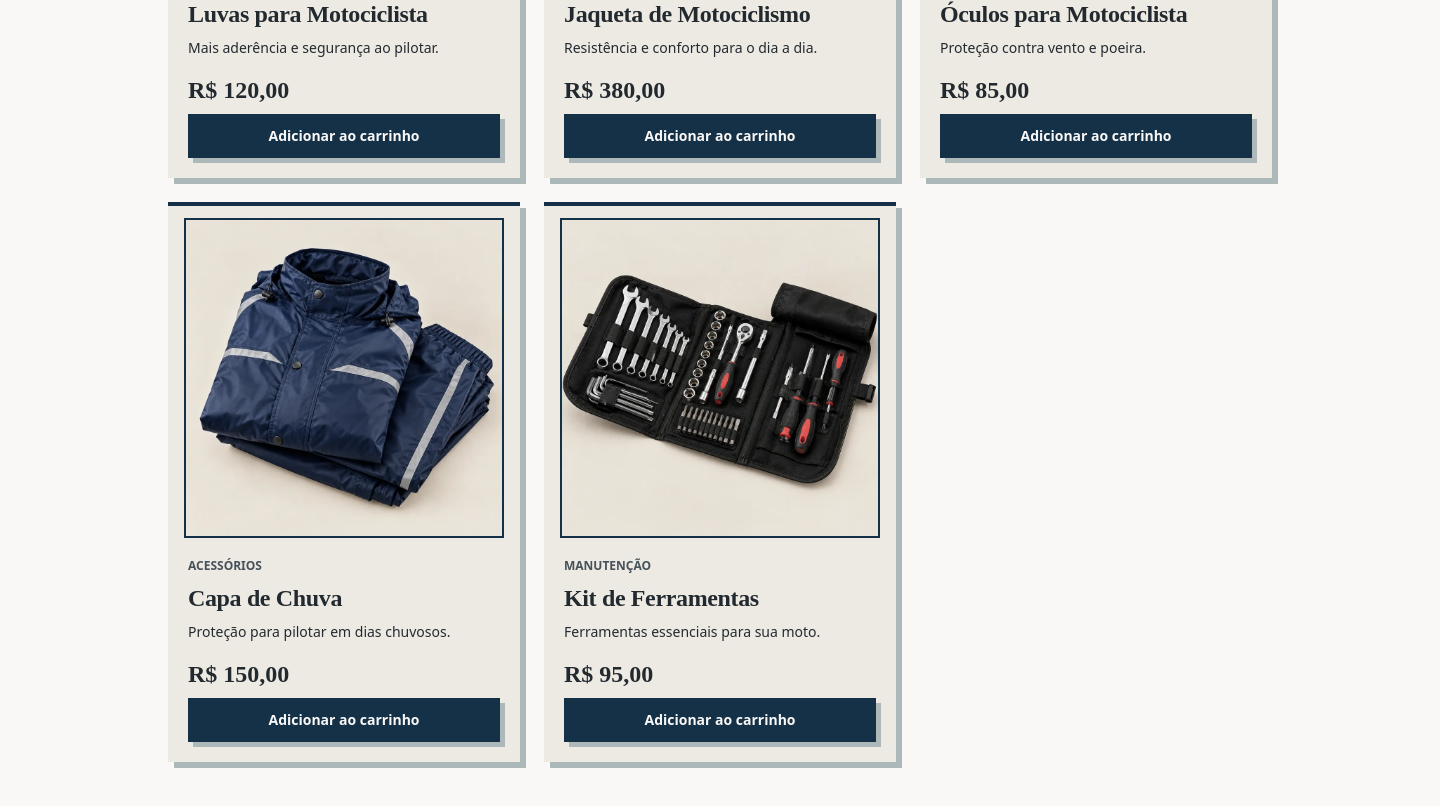
Test: Armazenamento · pedido da boutique › guarda os itens, o total e a forma de pagamento
(page scrolled)
Click the button with aria-label "Adicionar Capa de Chuva ao carrinho" at (344, 720), box x1=188 y1=698 x2=500 y2=742
(page scrolled)
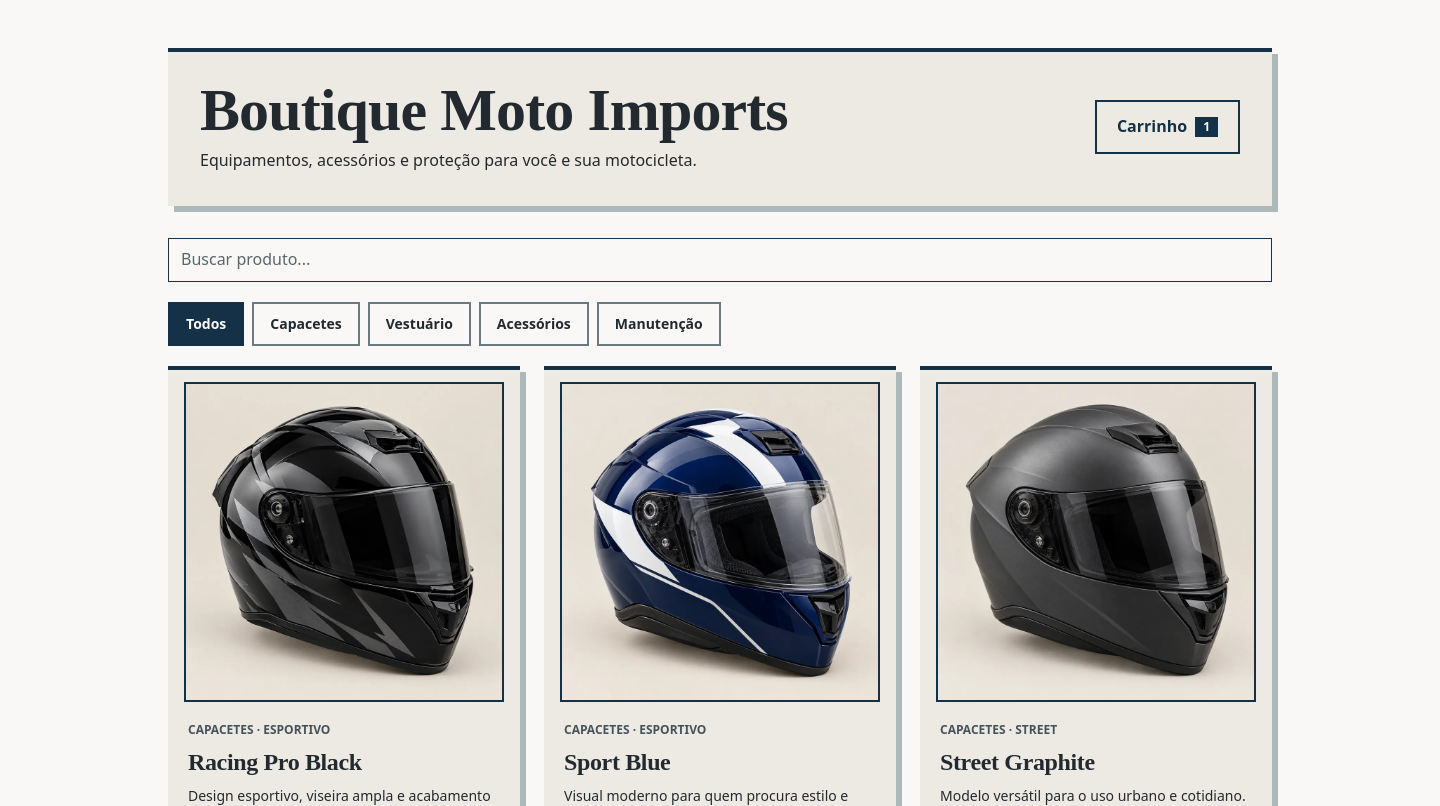
Click the button "Carrinho 1" at (1167, 127), box x1=1095 y1=100 x2=1240 y2=154
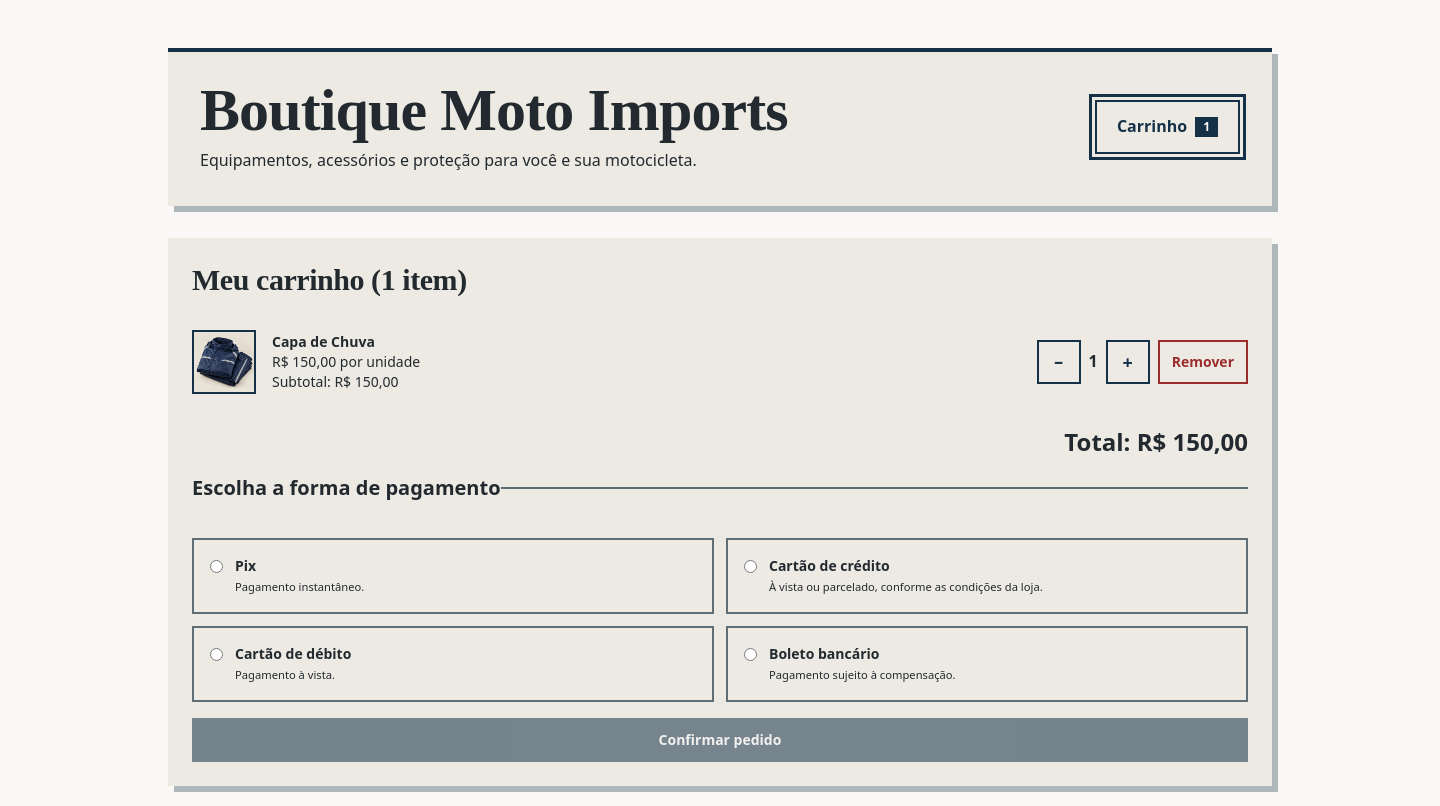
Click the radio button labelled "Pix Pagamento instantâneo." at (216, 566), box x1=210 y1=560 x2=223 y2=573
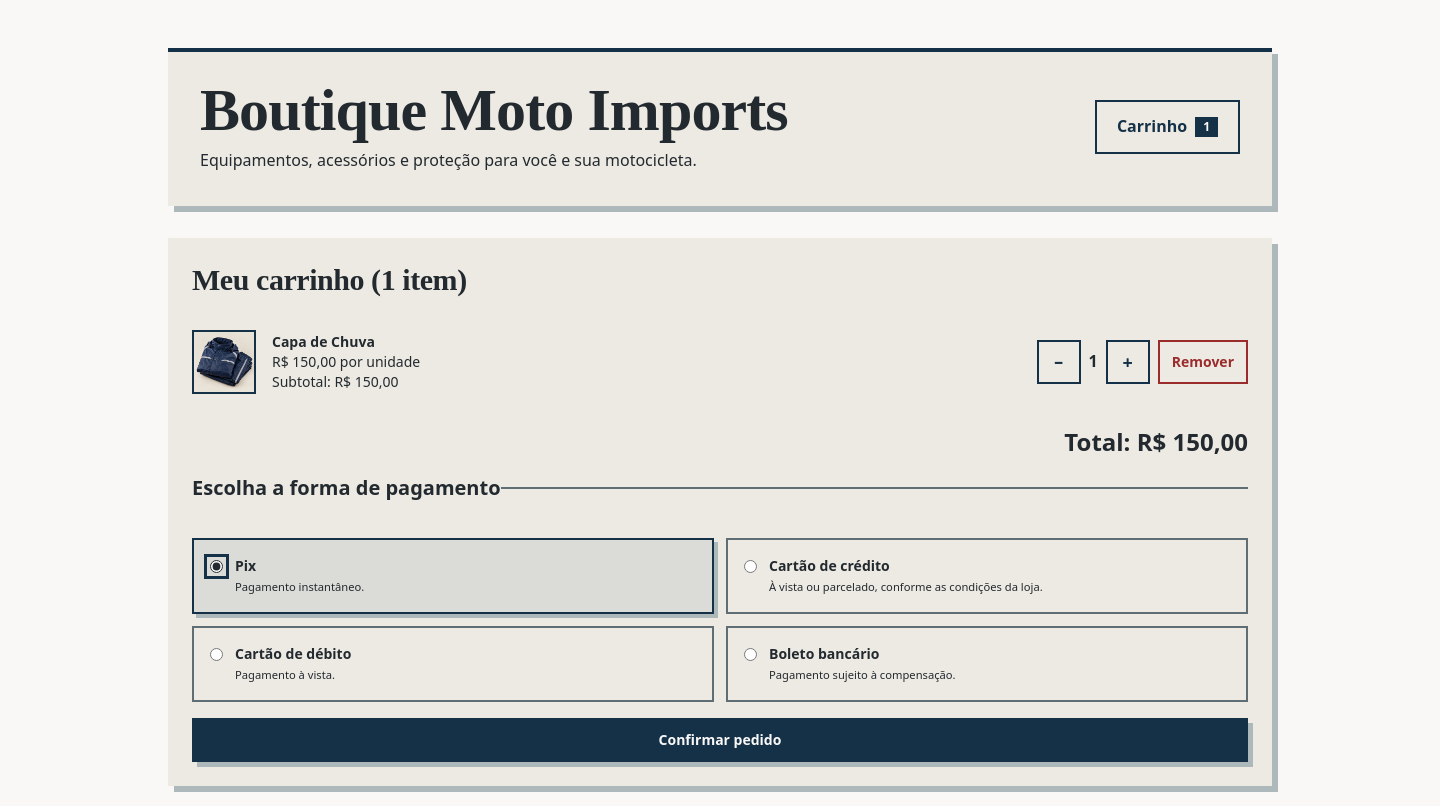
Click the button "Confirmar pedido" at (720, 740), box x1=192 y1=718 x2=1248 y2=762
(page scrolled)
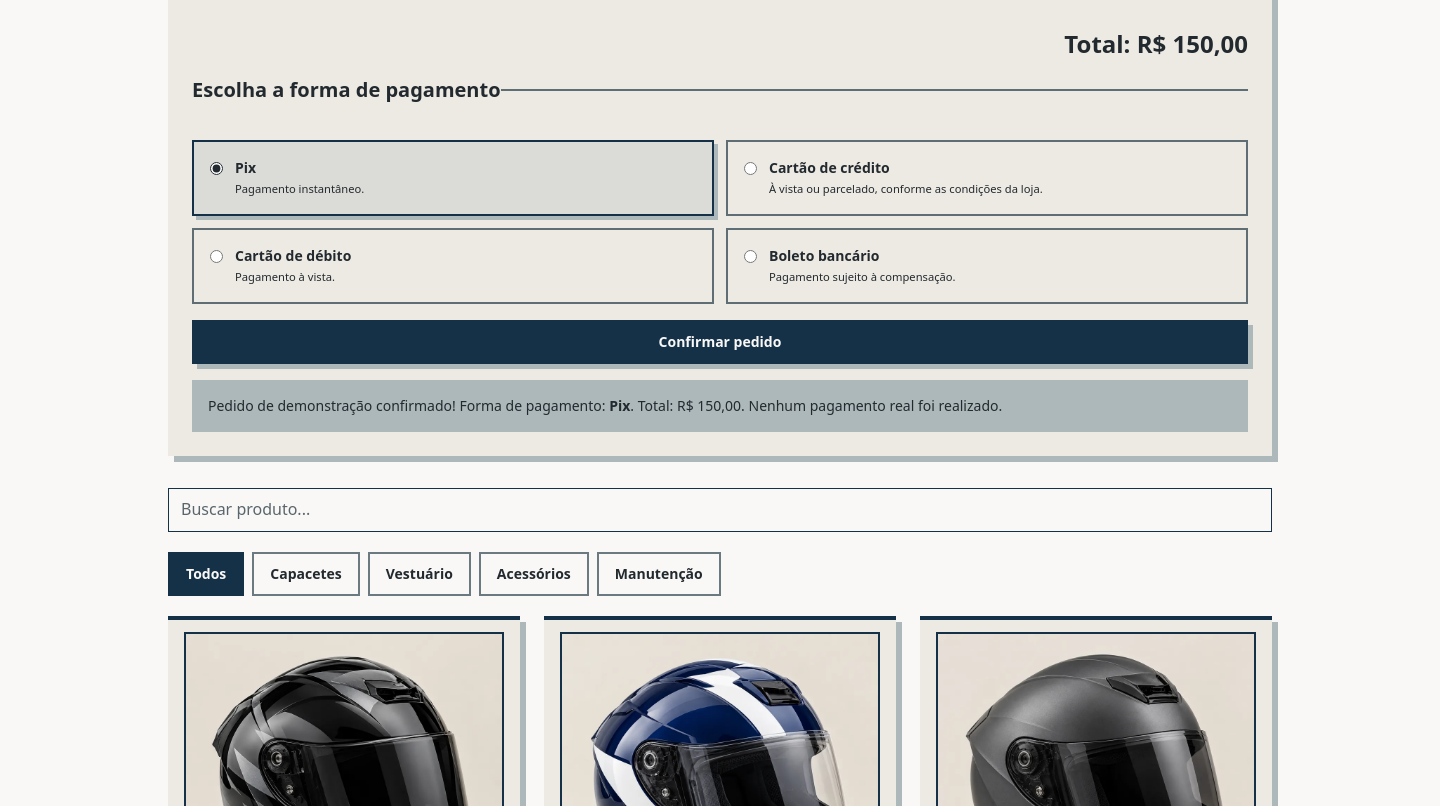
Check: the message shows "Pedido de demonstração confirmado", box x1=208 y1=396 x2=609 y2=415
